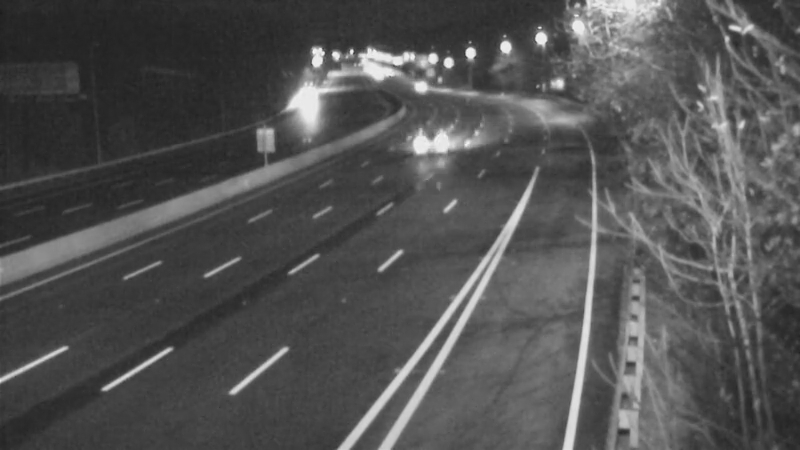vehicle: (396, 63, 446, 113), (410, 116, 460, 166)
